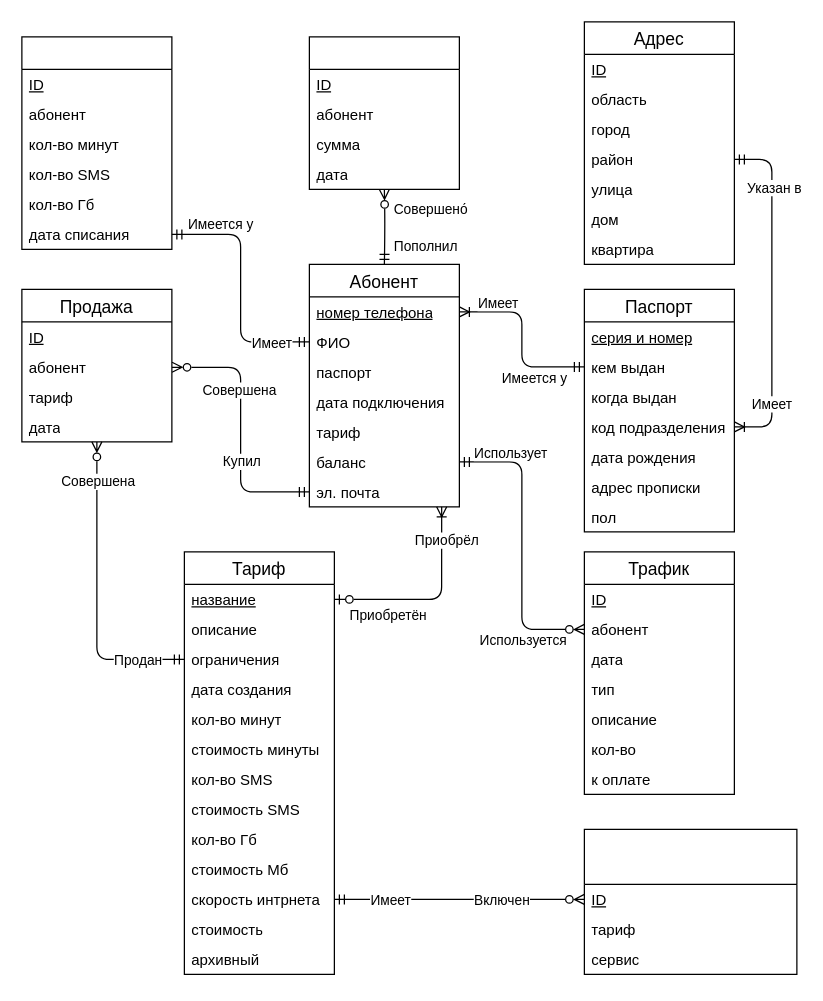
The diagram is 823 pixels wide and 1001 high, and some of its shapes have lost their labels. The box of each missing label's shape, as (x1, y1, x2, y2) in pixels:
Безлимитные сервисы: (583, 828, 797, 974)
Пакет: (21, 36, 172, 249)
Пополнение: (308, 36, 459, 189)
